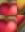heart: (0, 15, 17, 32), (0, 0, 17, 15), (17, 15, 25, 32)
